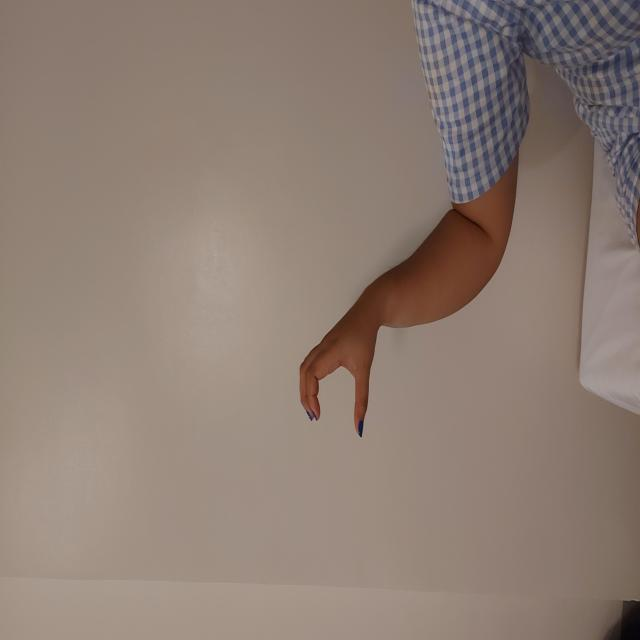C: (200, 297, 353, 378)
